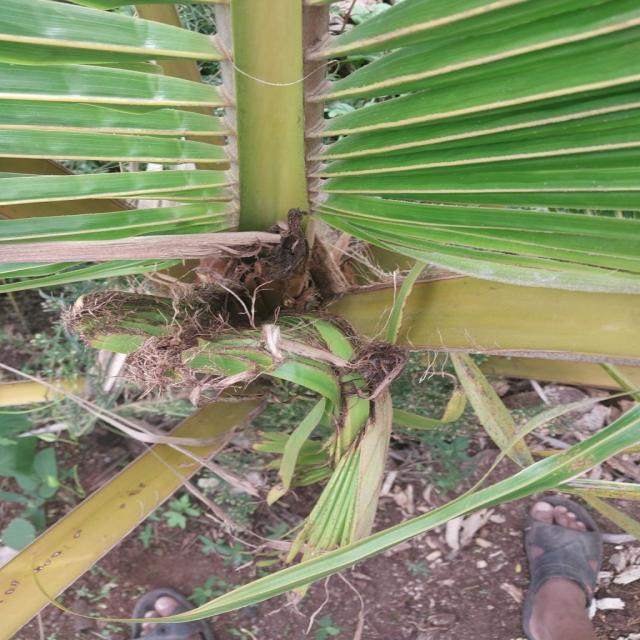bud rot: (62, 209, 408, 558)
